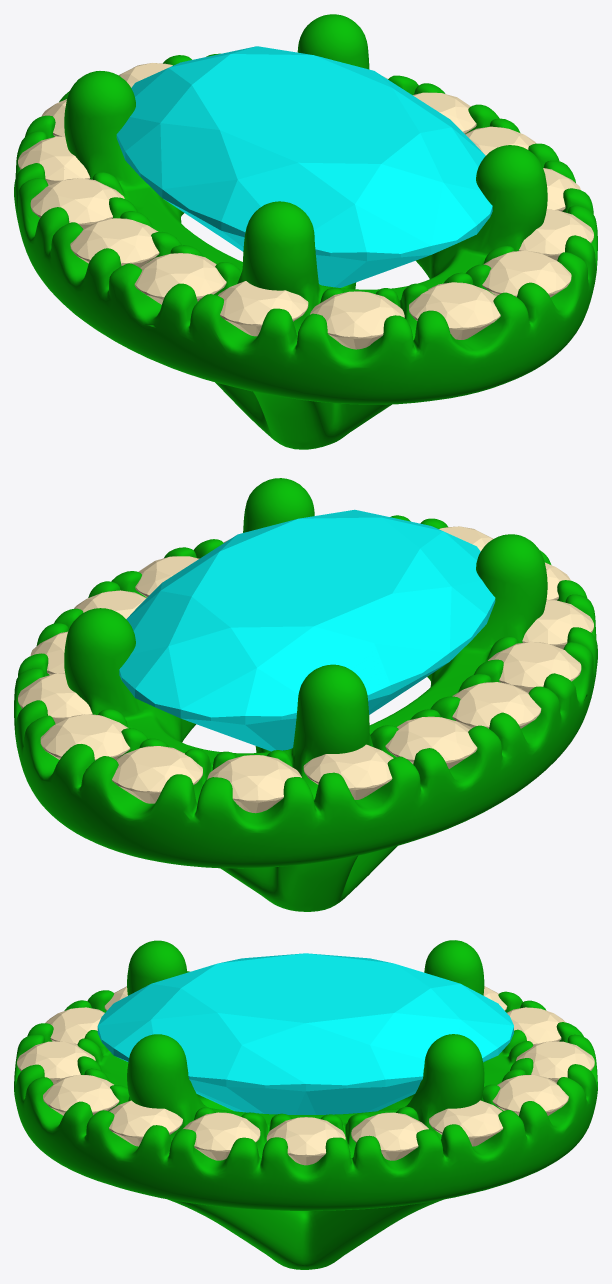
The picture shows the model from 3 angles, top to bottom: view 1: azimuth 30°, elevation 25°; view 2: azimuth 150°, elevation 25°; view 3: azimuth 270°, elevation 25°; orthographic projection. The views are drawn at different scales.
Visible parts, largest first — view 1: Metal01, Diamond_Oval, Diamond_Round.009, Diamond_Round.008, Diamond_Round.011, Diamond_Round.012, Diamond_Round.007, Diamond_Round.013, Diamond_Round.010, Diamond_Round.006, Diamond_Round.014, Diamond_Round.003 (+3 smaller); view 2: Metal01, Diamond_Oval, Diamond_Round, Diamond_Round.015, Diamond_Round.013, Diamond_Round.012, Diamond_Round.011, Diamond_Round.001, Diamond_Round.014, Diamond_Round.002, Diamond_Round.010, Diamond_Round.005 (+3 smaller); view 3: Metal01, Diamond_Oval, Diamond_Round.005, Diamond_Round.003, Diamond_Round.004, Diamond_Round.007, Diamond_Round.001, Diamond_Round.002, Diamond_Round.006, Diamond_Round, Diamond_Round.008, Diamond_Round.009 (+1 smaller).
Boxes of the visible parts, <box> form: Metal01: <box>14,14,597,449</box>; Diamond_Oval: <box>116,46,492,287</box>; Diamond_Round.009: <box>310,291,404,349</box>; Diamond_Round.008: <box>409,282,500,339</box>; Diamond_Round.011: <box>134,253,226,304</box>; Diamond_Round.012: <box>70,218,159,267</box>; Diamond_Round.007: <box>482,250,571,297</box>; Diamond_Round.013: <box>30,178,124,228</box>; Diamond_Round.010: <box>218,281,308,336</box>; Diamond_Round.006: <box>518,209,593,260</box>; Diamond_Round.014: <box>18,136,90,185</box>; Diamond_Round.003: <box>413,92,476,133</box>; Metal01: <box>14,478,597,911</box>; Diamond_Oval: <box>119,509,495,751</box>; Diamond_Round: <box>112,746,202,803</box>; Diamond_Round.015: <box>207,755,301,813</box>; Diamond_Round.013: <box>385,716,477,768</box>; Diamond_Round.012: <box>452,682,541,729</box>; Diamond_Round.011: <box>488,641,581,692</box>; Diamond_Round.001: <box>40,714,130,760</box>; Diamond_Round.014: <box>303,744,393,799</box>; Diamond_Round.002: <box>18,673,92,723</box>; Diamond_Round.010: <box>522,599,593,649</box>; Diamond_Round.005: <box>135,556,199,597</box>; Metal01: <box>14,940,597,1269</box>; Diamond_Oval: <box>97,953,513,1114</box>; Diamond_Round.005: <box>183,1112,260,1160</box>; Diamond_Round.003: <box>351,1112,428,1160</box>; Diamond_Round.004: <box>266,1117,345,1165</box>; Diamond_Round.007: <box>43,1075,119,1115</box>; Diamond_Round.001: <box>492,1075,568,1115</box>; Diamond_Round.002: <box>429,1100,502,1146</box>; Diamond_Round.006: <box>109,1100,182,1146</box>; Diamond_Round: <box>516,1041,594,1082</box>; Diamond_Round.008: <box>17,1041,95,1083</box>; Diamond_Round.009: <box>45,1007,104,1044</box>.
Size of the model in its own units: 7.92 by 5.35 by 10.38.
